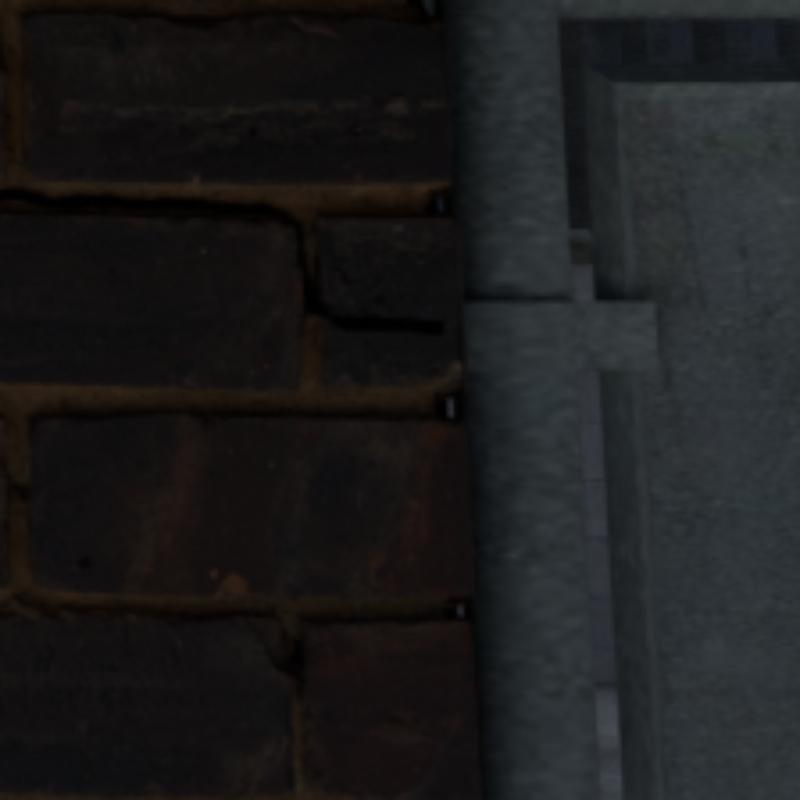pothole: (0, 186, 439, 332)
